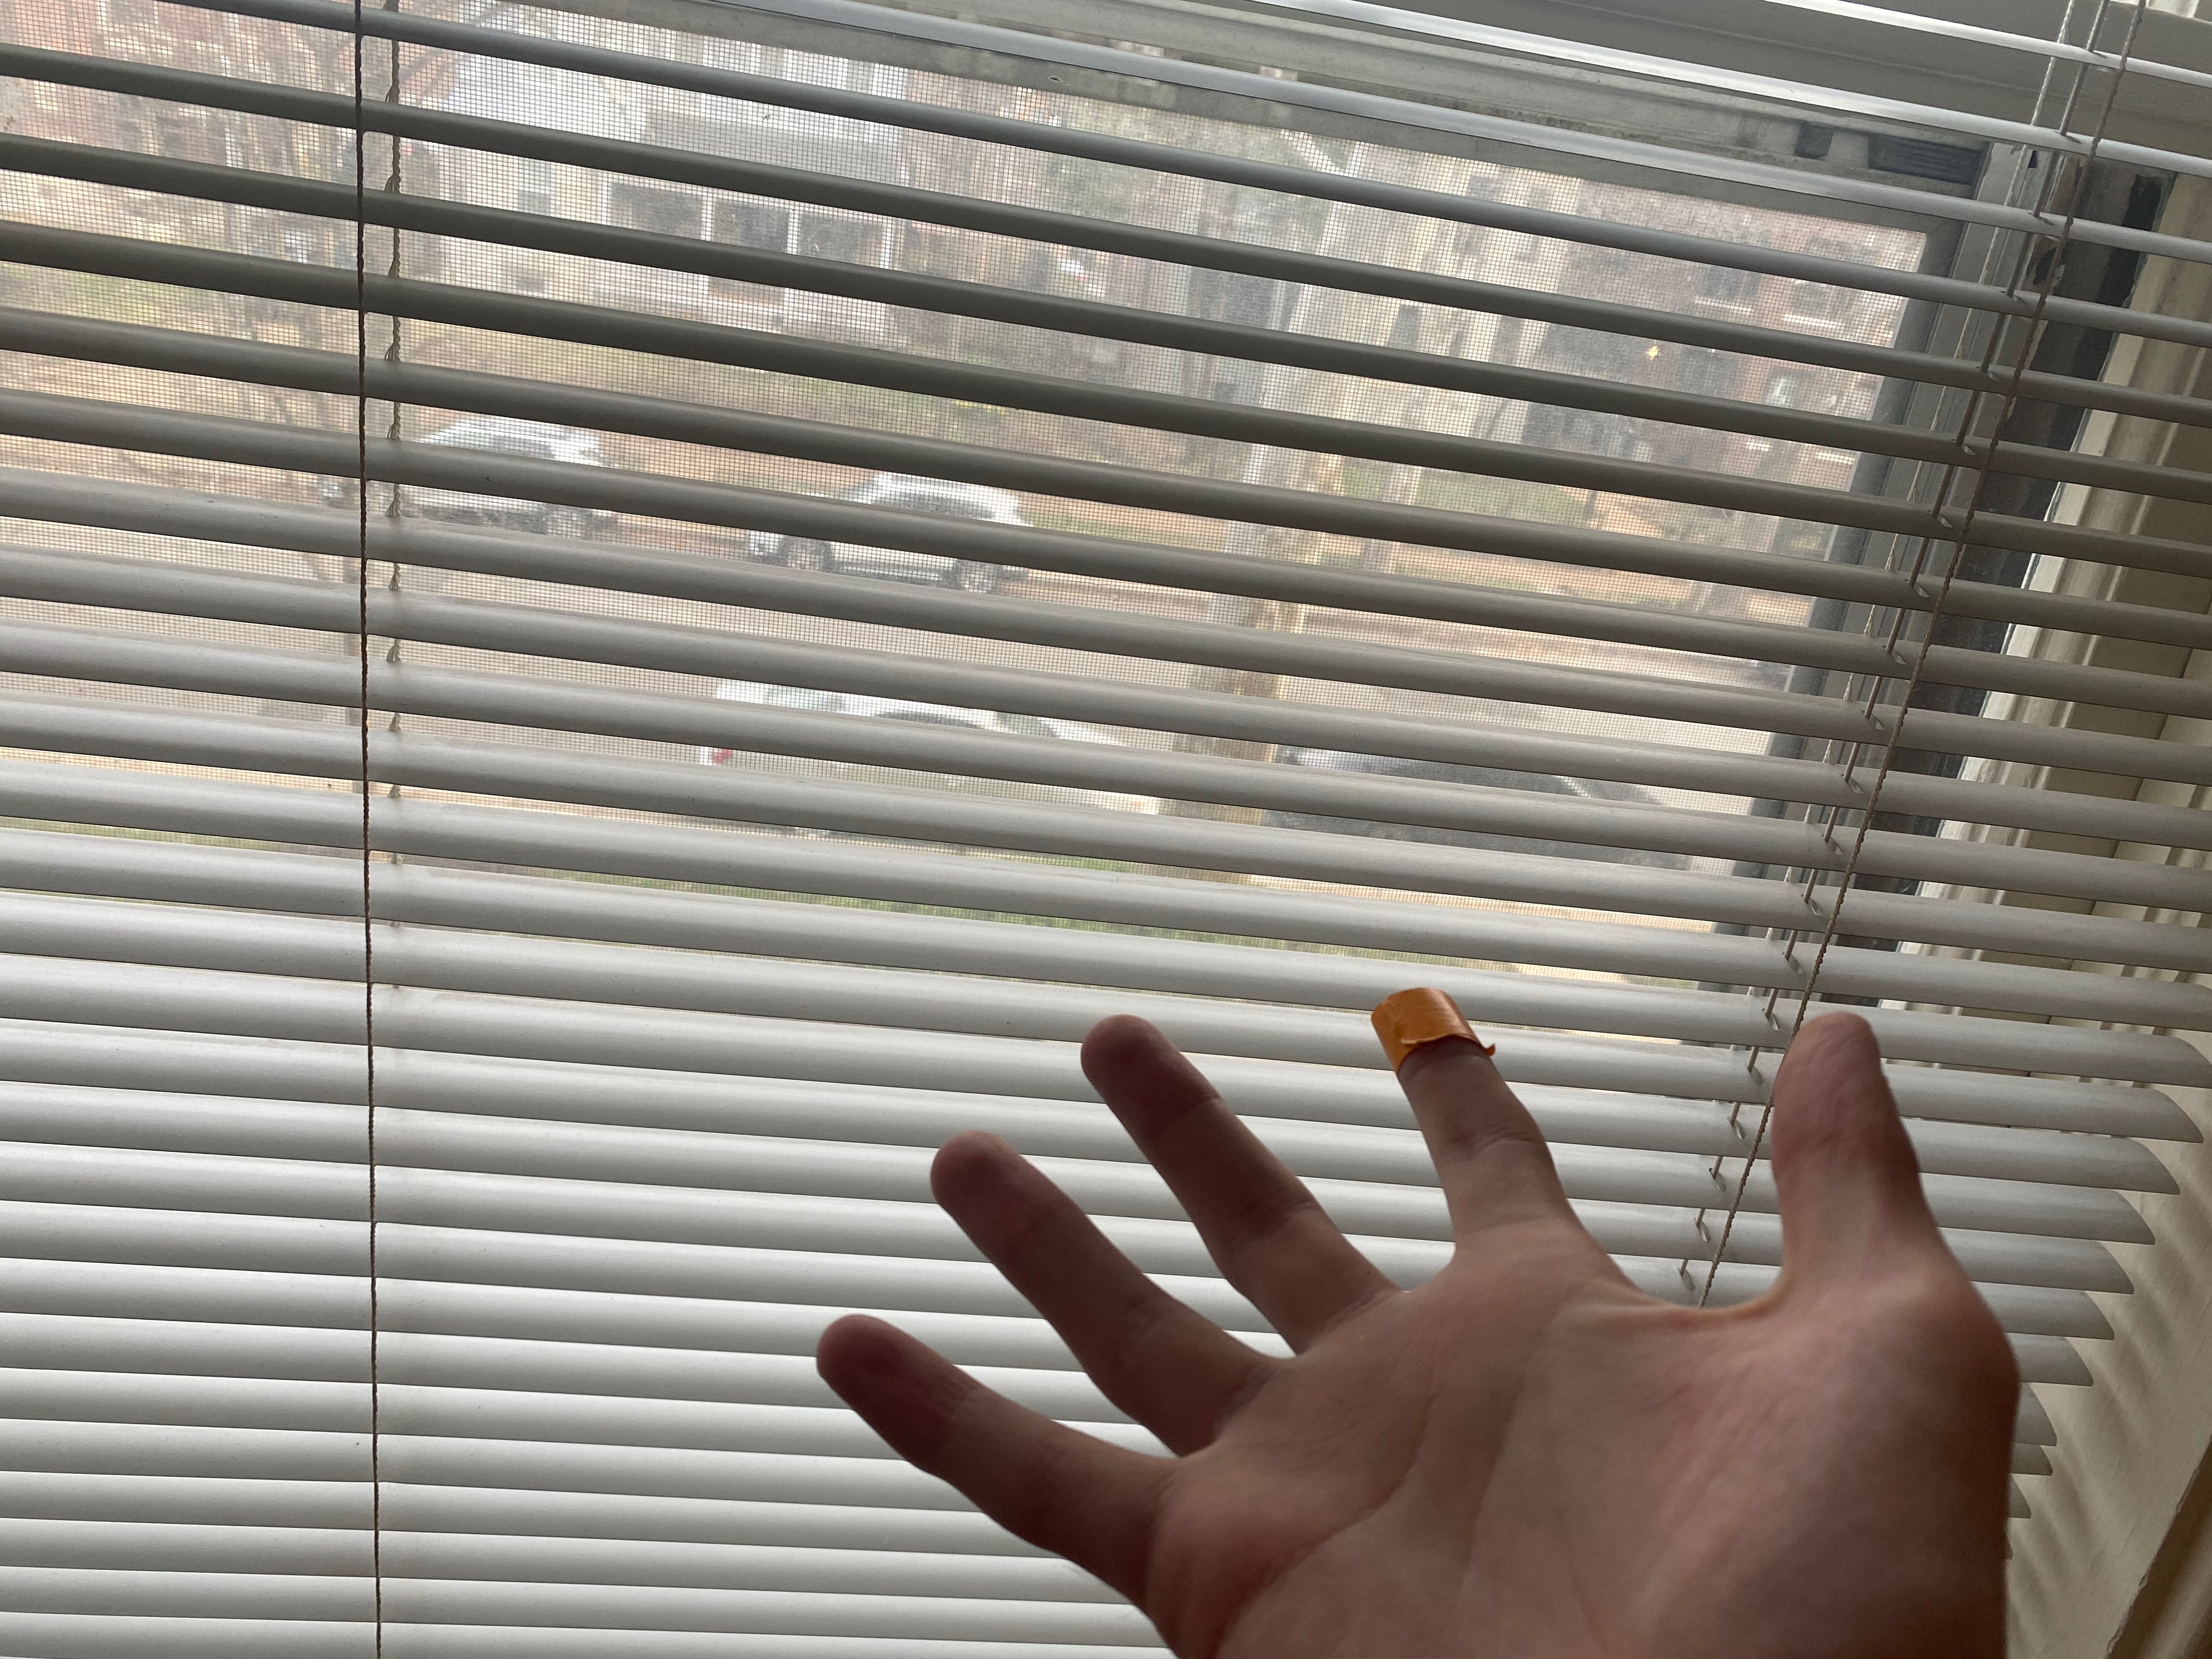fingertip: (1353, 976, 1522, 1089)
